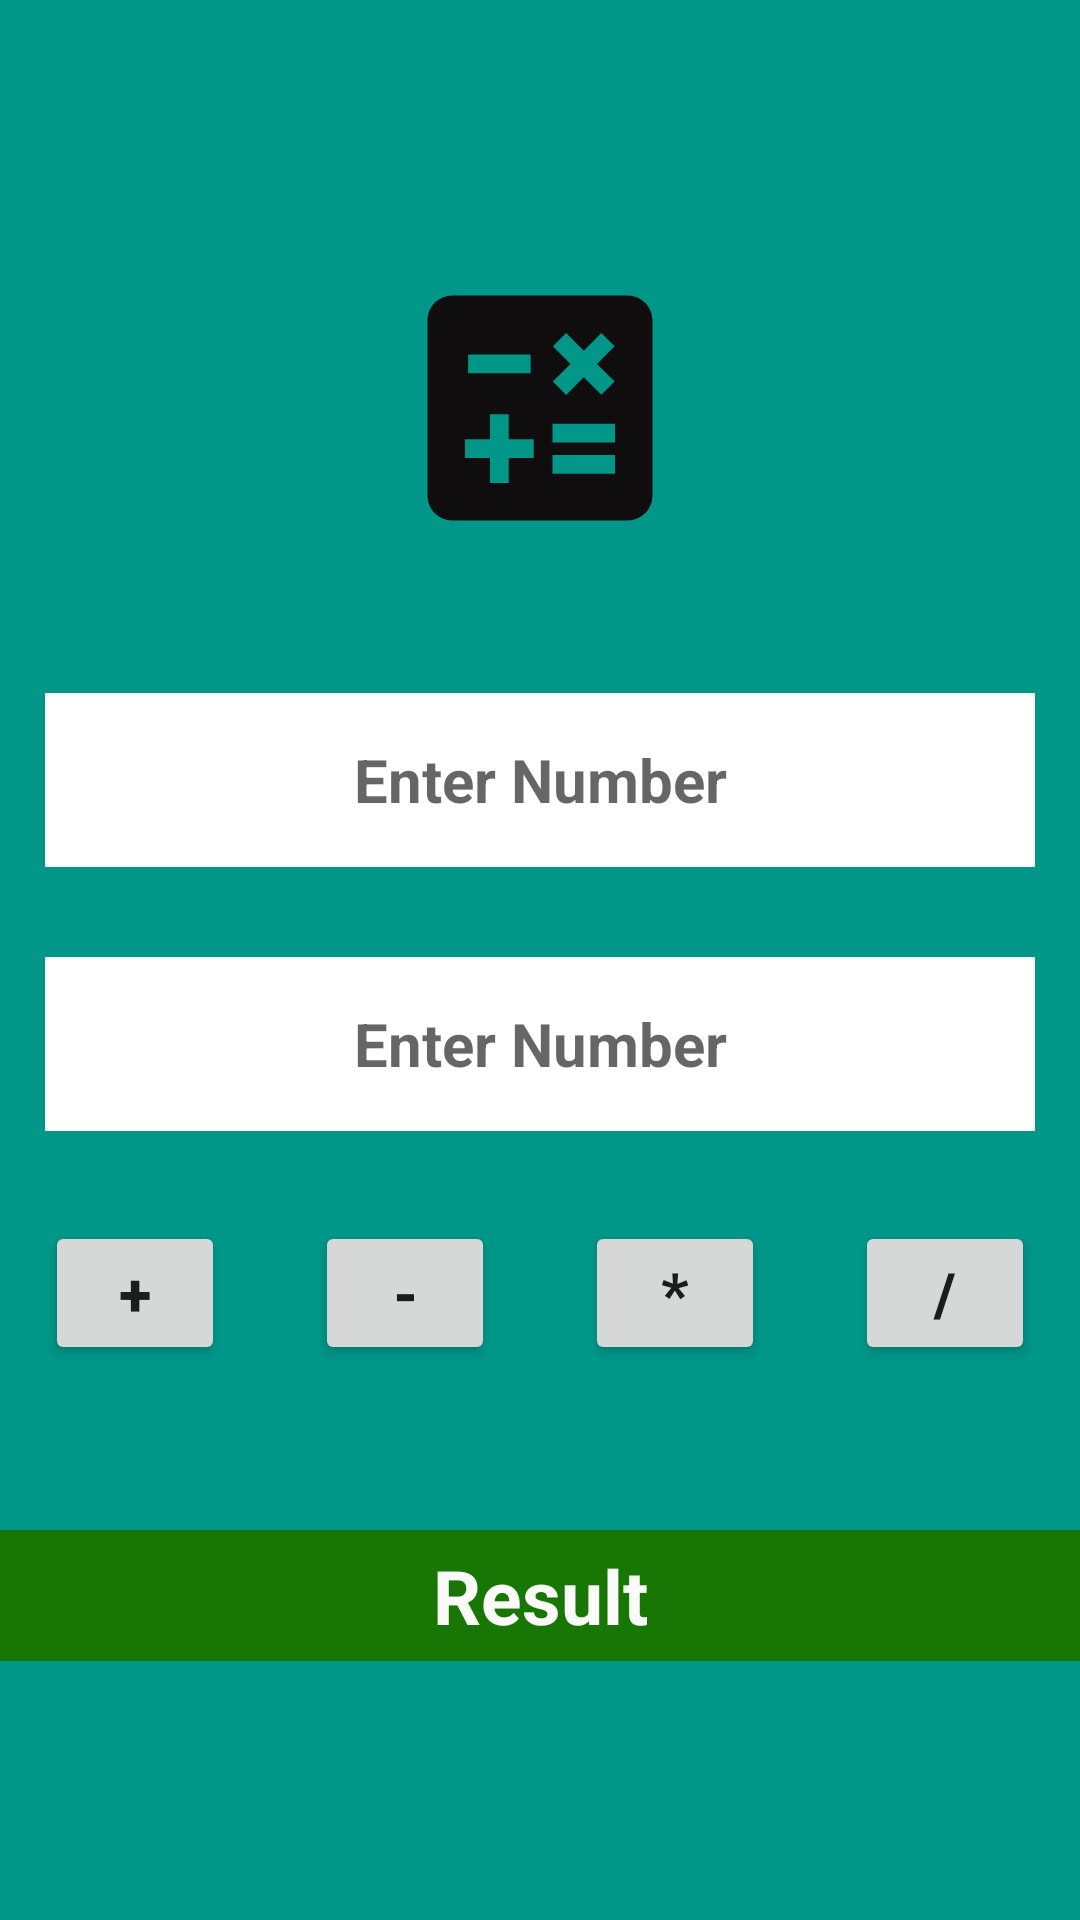

Icon bounding boxes for this 1080×1920 phone screenshot, format [x1, y1, x2, y2]:
calculate: [427, 295, 653, 521]
